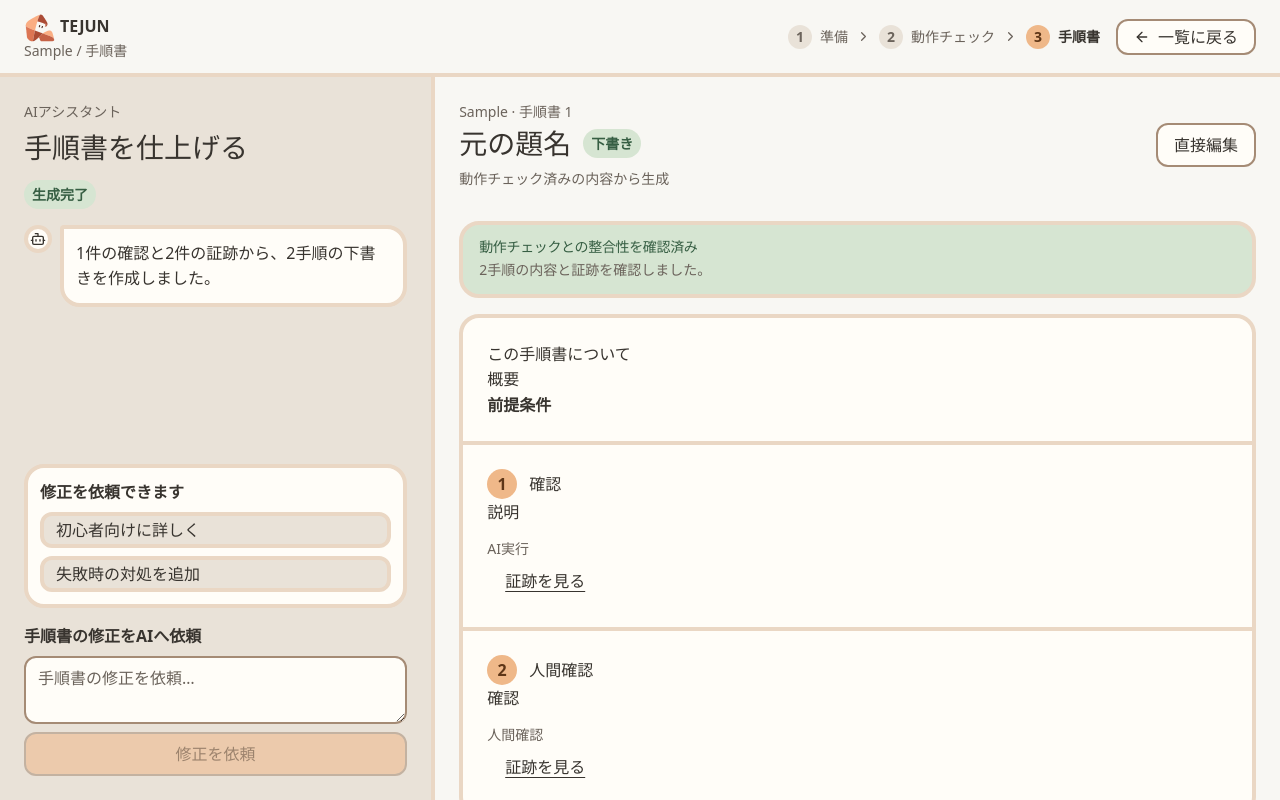
Test: ProcedurePage › 閉じて開き直した証跡に古い取得結果を表示しない
This screenshot has width=1280, height=800.
Step 1. Click the button with aria-label "確認の証跡を見る" → click(545, 581), box x1=487 y1=559 x2=603 y2=603
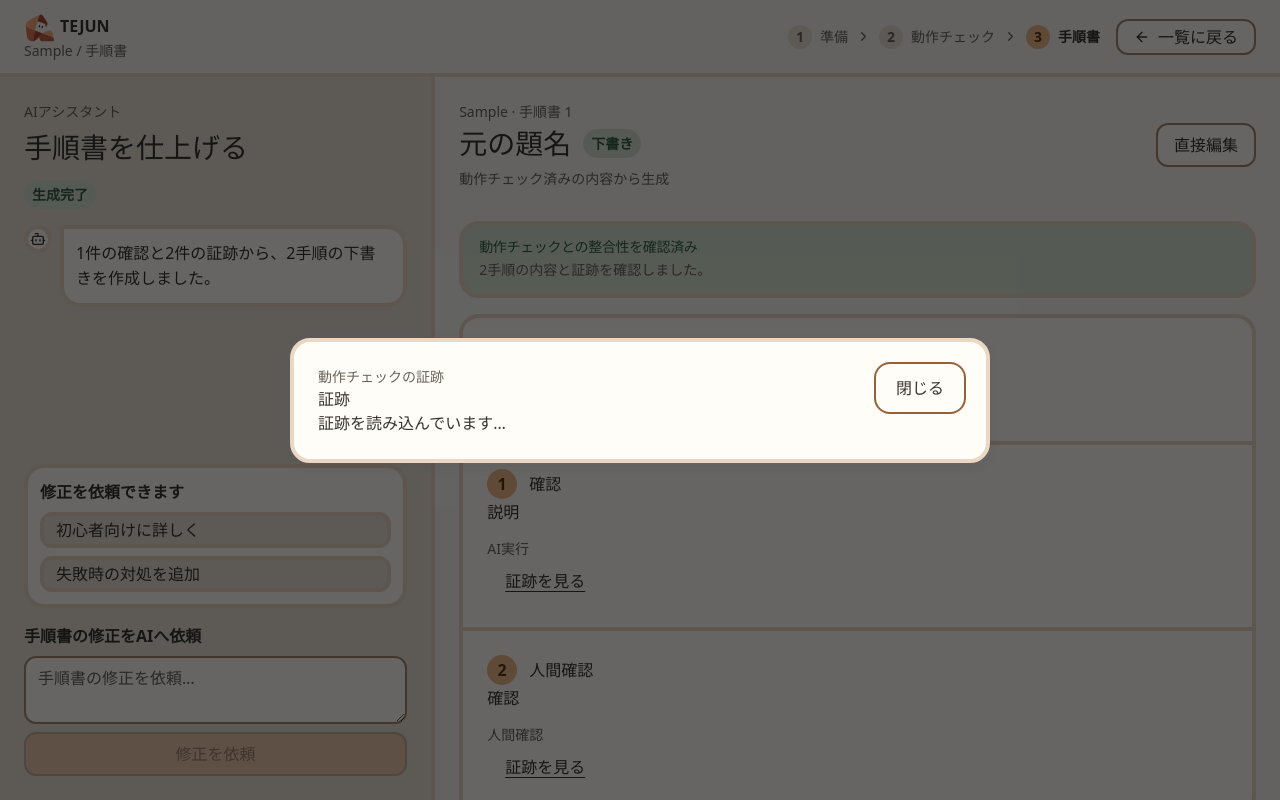
Step 2. Click the button "閉じる" → click(920, 388), box x1=878 y1=366 x2=962 y2=410
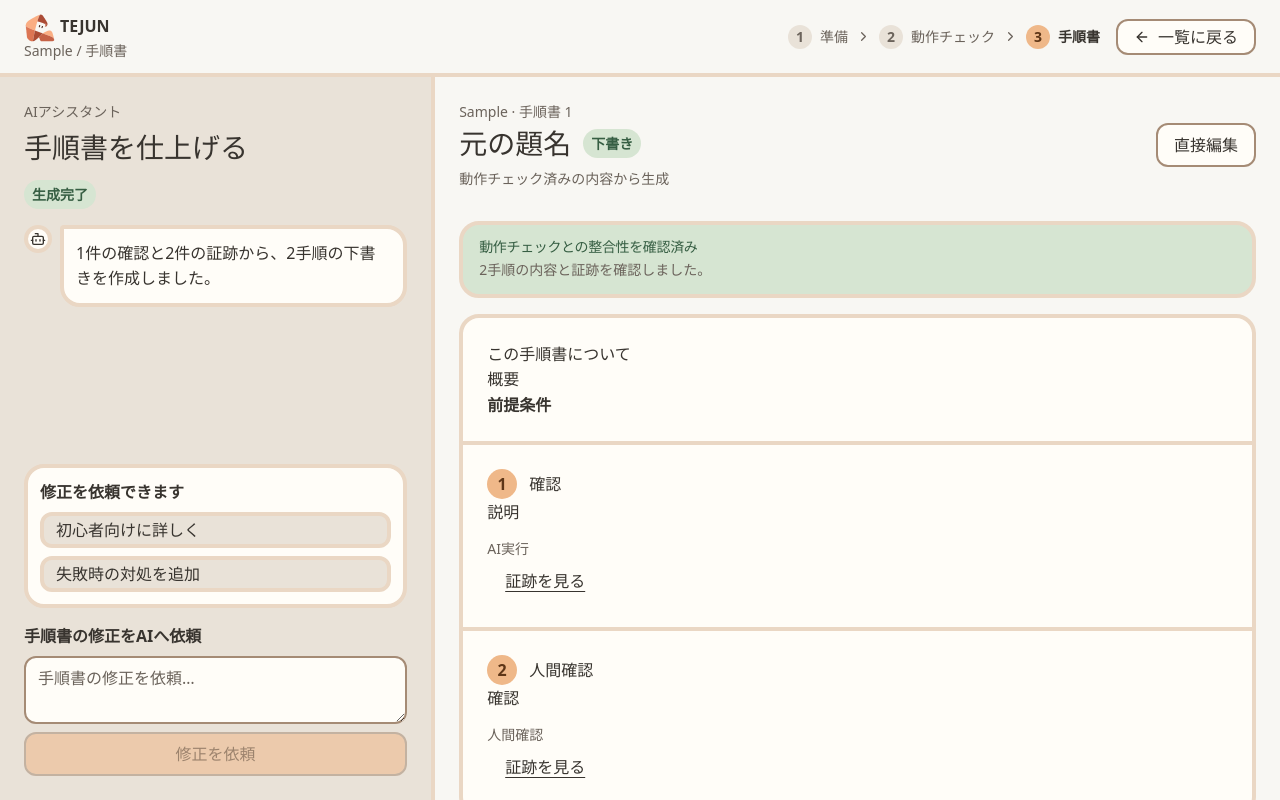
Step 3. Click the button with aria-label "人間確認の証跡を見る" → click(545, 767), box x1=487 y1=745 x2=603 y2=789
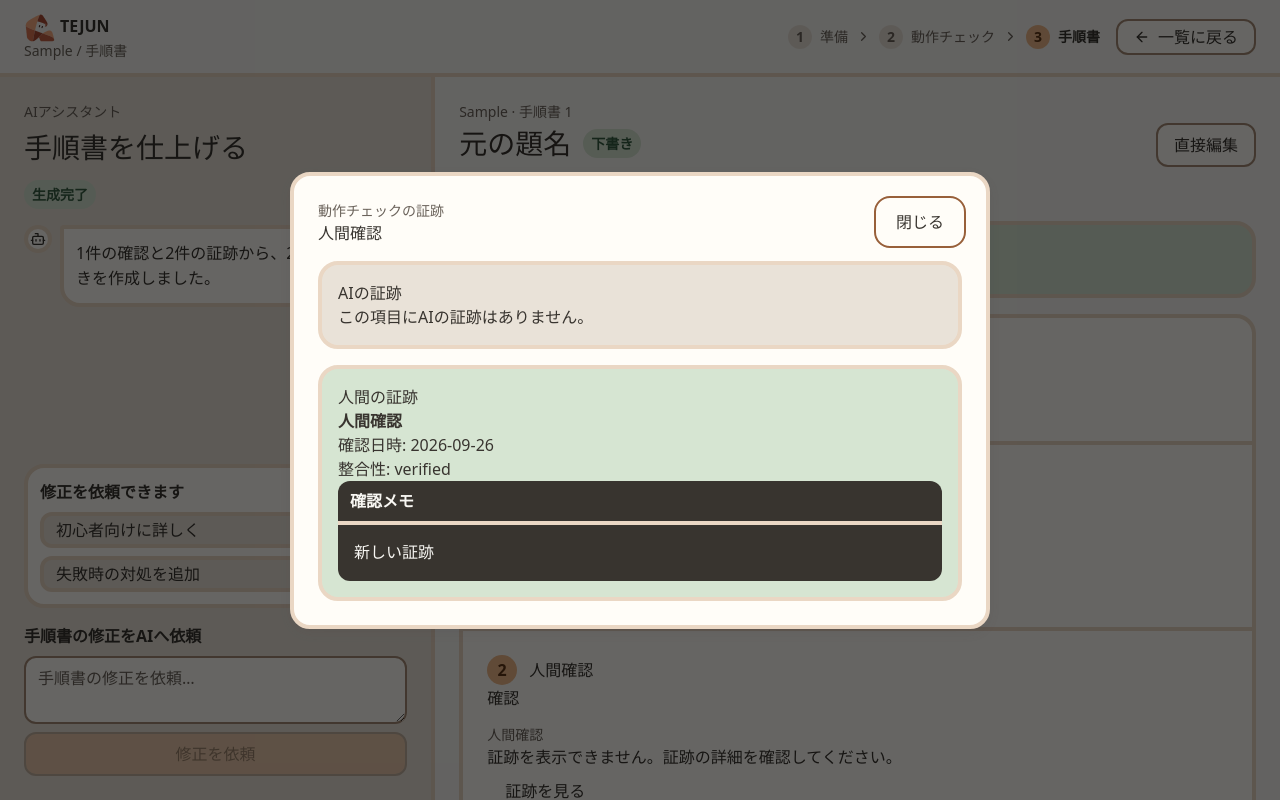
Check: the text "新しい証跡" is shown, box x1=354 y1=542 x2=434 y2=562
